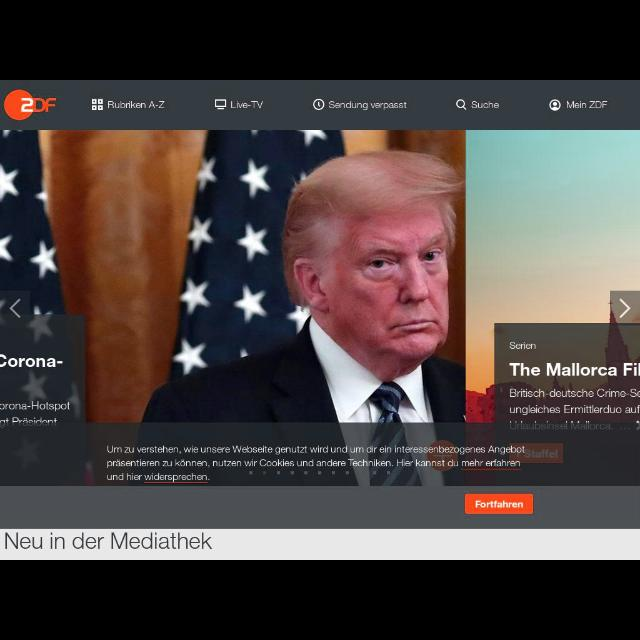backgroundimage: (3, 130, 635, 487)
button: (428, 442, 458, 472), (612, 290, 634, 324), (9, 294, 29, 326)
icon: (8, 295, 24, 321), (620, 298, 632, 320), (548, 99, 562, 111), (92, 96, 102, 112), (214, 98, 226, 110), (312, 99, 324, 111), (455, 100, 467, 110)
iframe: (5, 426, 640, 530)
image: (5, 89, 58, 121)
pageindicator: (247, 468, 396, 479)
text: (106, 443, 524, 483), (510, 389, 640, 433), (3, 530, 211, 554), (508, 361, 636, 377), (3, 402, 71, 426), (4, 352, 64, 368), (474, 498, 524, 512), (329, 101, 407, 109), (108, 100, 166, 108), (516, 449, 558, 459), (568, 100, 606, 110), (232, 101, 262, 109), (470, 102, 500, 110), (511, 343, 537, 351)
textbutton: (463, 492, 535, 514), (512, 445, 562, 463)
